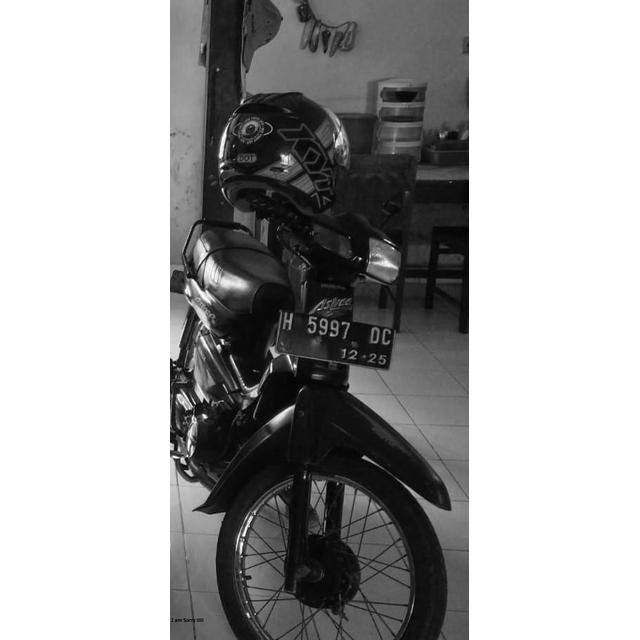license: (280, 309, 392, 368)
